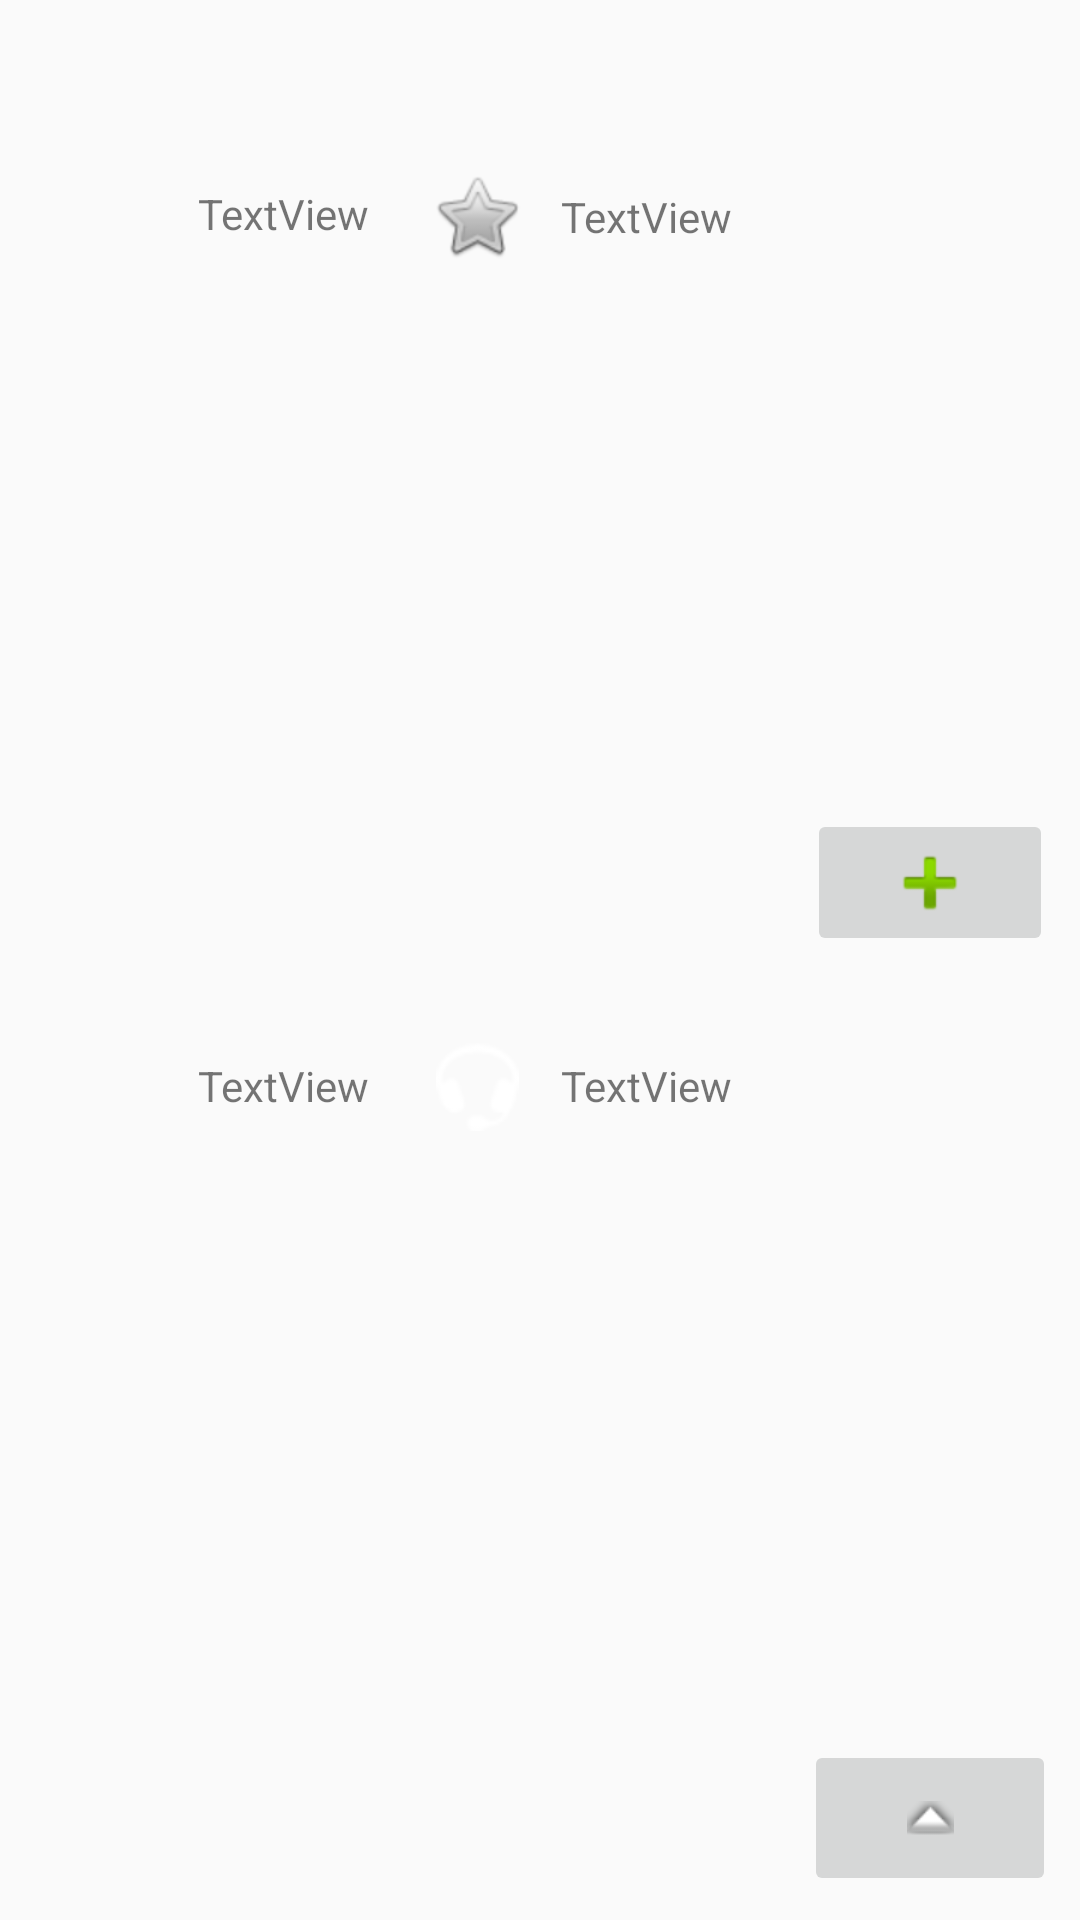

Icon bounding boxes for this 1080px x 1920px phone screenshot, format (left=x1, top=y1, right=x2, bottom=y2):
add: (left=819, top=827, right=1041, bottom=938)
arrow up float: (left=816, top=1758, right=1044, bottom=1878)
star: (left=438, top=178, right=518, bottom=256)
